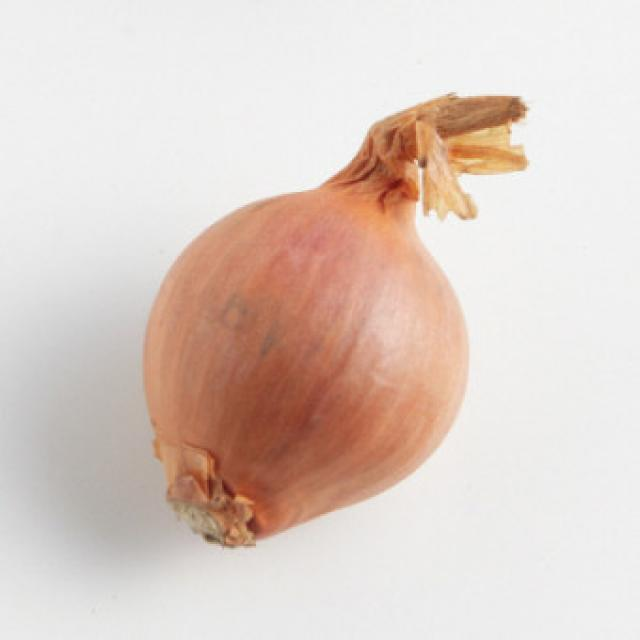onion: (138, 150, 476, 548)
